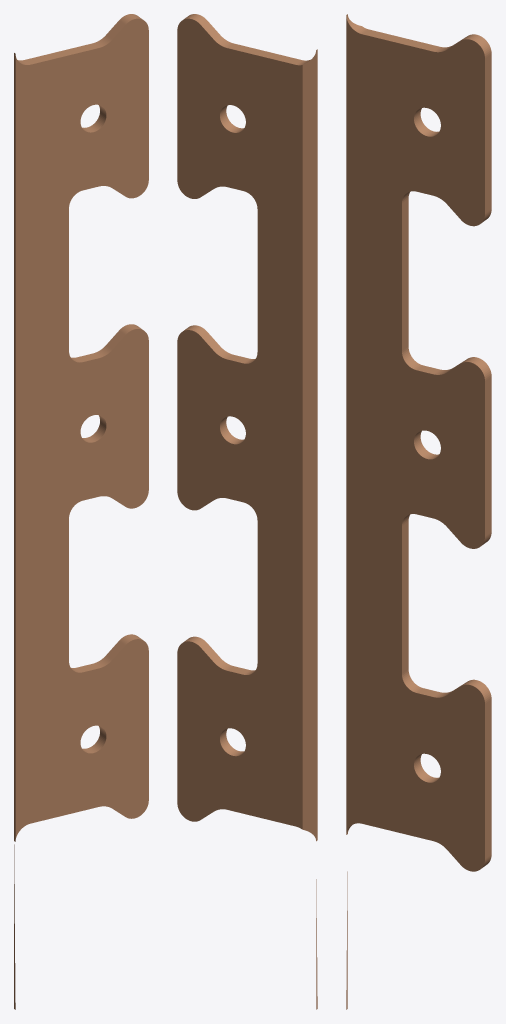
File: door-panel-bottom-right-subpanel-flap.glb
3 views of the same model, side by side, from view 1: azimuth 30°, elevation 25°; view 2: azimuth 150°, elevation 25°; view 3: azimuth 330°, elevation 25° (orthographic). The views are drawn at different scales.
Visible parts, largest first — view 1: door-panel-bottom-right-subpanel-flap; view 2: door-panel-bottom-right-subpanel-flap; view 3: door-panel-bottom-right-subpanel-flap.
Part boxes in pixels (x1=…): door-panel-bottom-right-subpanel-flap: x1=14, y1=14, x2=148, y2=1009; door-panel-bottom-right-subpanel-flap: x1=177, y1=14, x2=317, y2=1009; door-panel-bottom-right-subpanel-flap: x1=346, y1=14, x2=491, y2=1009.
Bounding box in the file's own units: 108 × 746 × 9.
